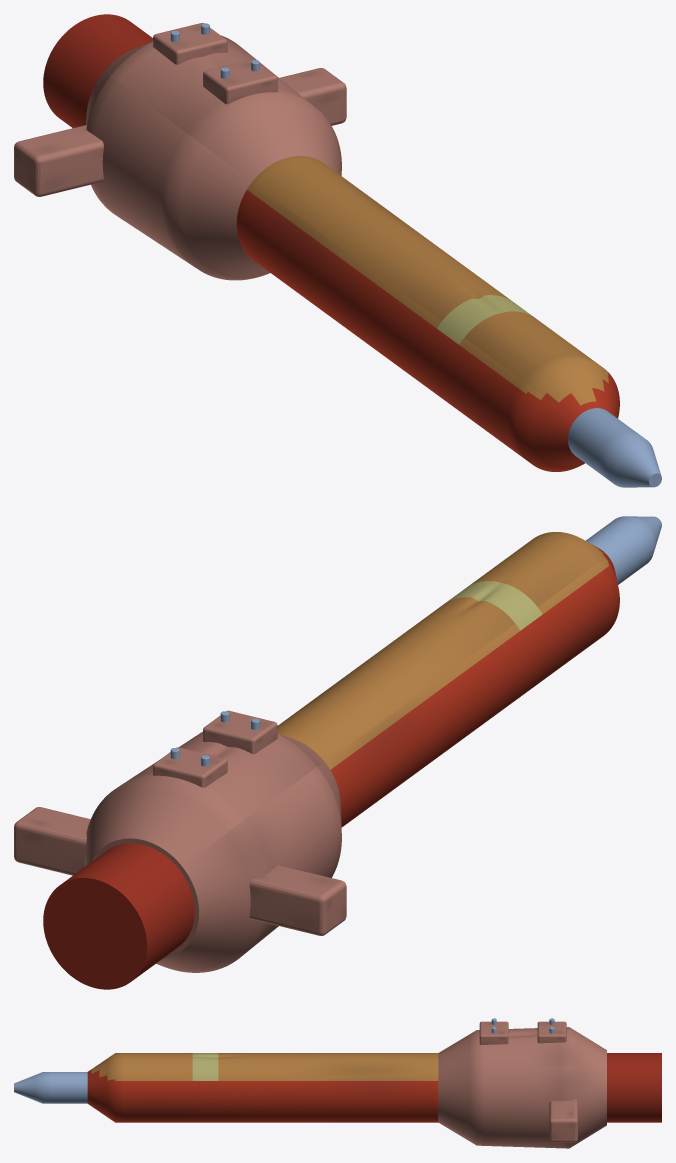
The picture shows the model from 3 angles, top to bottom: view 1: azimuth 30°, elevation 25°; view 2: azimuth 150°, elevation 25°; view 3: azimuth 270°, elevation 25°; orthographic projection. The views are drawn at different scales.
Parts seen in each view (by area): view 1: Achaean Hold It There shaft, Achaean Hold It There shoulder, Achaean Hold It There rear, Achaean Hold It There lateral shoulder 0, Achaean Hold It There tip, Achaean Hold It There lateral shoulder 1, Achaean Hold It There service cover 0, Achaean Hold It There service cover 1; view 2: Achaean Hold It There shaft, Achaean Hold It There shoulder, Achaean Hold It There rear, Achaean Hold It There lateral shoulder 0, Achaean Hold It There lateral shoulder 1, Achaean Hold It There tip, Achaean Hold It There service cover 0, Achaean Hold It There service cover 1; view 3: Achaean Hold It There shaft, Achaean Hold It There shoulder, Achaean Hold It There rear, Achaean Hold It There tip, Achaean Hold It There lateral shoulder 1, Achaean Hold It There service cover 0, Achaean Hold It There service cover 1.
Part boxes in pixels (x1=…): Achaean Hold It There shaft: x1=236, y1=156, x2=619, y2=471; Achaean Hold It There shoulder: x1=86, y1=35, x2=341, y2=280; Achaean Hold It There rear: x1=43, y1=14, x2=152, y2=127; Achaean Hold It There lateral shoulder 0: x1=14, y1=125, x2=103, y2=196; Achaean Hold It There tip: x1=568, y1=408, x2=661, y2=487; Achaean Hold It There lateral shoulder 1: x1=279, y1=68, x2=346, y2=125; Achaean Hold It There service cover 0: x1=203, y1=59, x2=277, y2=104; Achaean Hold It There service cover 1: x1=153, y1=23, x2=227, y2=64; Achaean Hold It There shaft: x1=277, y1=532, x2=619, y2=827; Achaean Hold It There shoulder: x1=84, y1=732, x2=341, y2=972; Achaean Hold It There rear: x1=43, y1=843, x2=194, y2=989; Achaean Hold It There lateral shoulder 0: x1=249, y1=865, x2=346, y2=935; Achaean Hold It There lateral shoulder 1: x1=14, y1=807, x2=90, y2=875; Achaean Hold It There tip: x1=586, y1=516, x2=661, y2=584; Achaean Hold It There service cover 0: x1=203, y1=710, x2=277, y2=753; Achaean Hold It There service cover 1: x1=153, y1=747, x2=227, y2=787; Achaean Hold It There shaft: x1=87, y1=1053, x2=438, y2=1122; Achaean Hold It There shoulder: x1=438, y1=1027, x2=606, y2=1148; Achaean Hold It There rear: x1=607, y1=1053, x2=661, y2=1122; Achaean Hold It There tip: x1=14, y1=1072, x2=87, y2=1103; Achaean Hold It There lateral shoulder 1: x1=549, y1=1099, x2=577, y2=1142; Achaean Hold It There service cover 0: x1=479, y1=1021, x2=508, y2=1044; Achaean Hold It There service cover 1: x1=537, y1=1021, x2=566, y2=1043.
Size of the model in its own units: 0.72 by 0.455 by 2.24.
6 materials, 3 textured.
